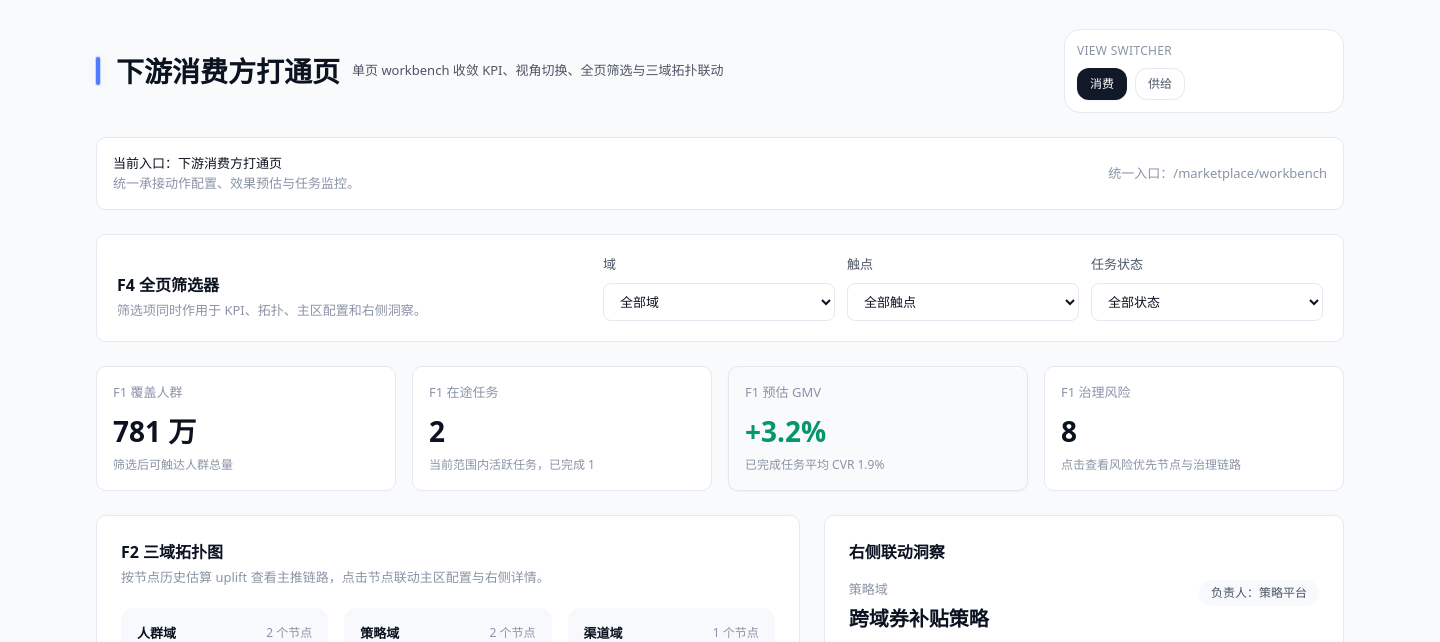
MarketWorkbench › 全页筛选与节点选择共同过滤任务列表
Select "已完成" in the dropdown named "任务状态筛选" at (1207, 302), box [1091, 282, 1323, 320]
(page scrolled)
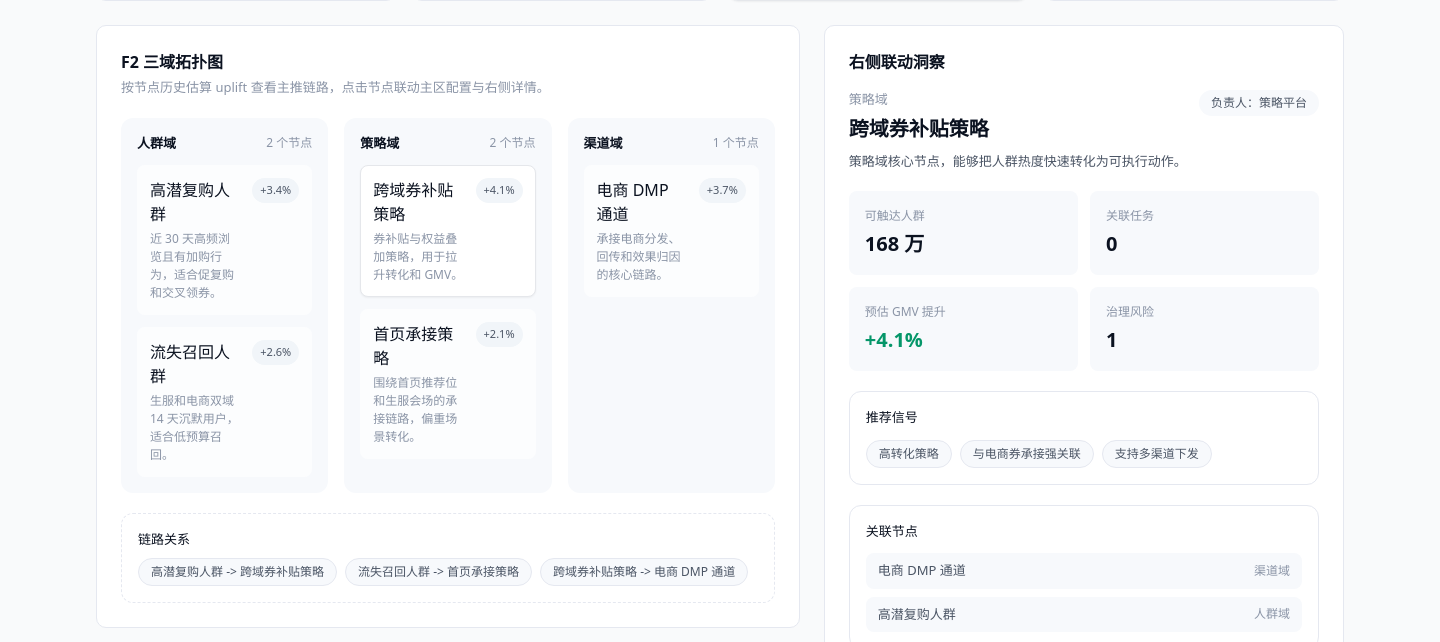
Click the button "流失召回人群 生服和电商双域 14 天沉默用户，适合低预算召回。 +2.6%" at (225, 402), box [137, 327, 312, 477]
(page scrolled)
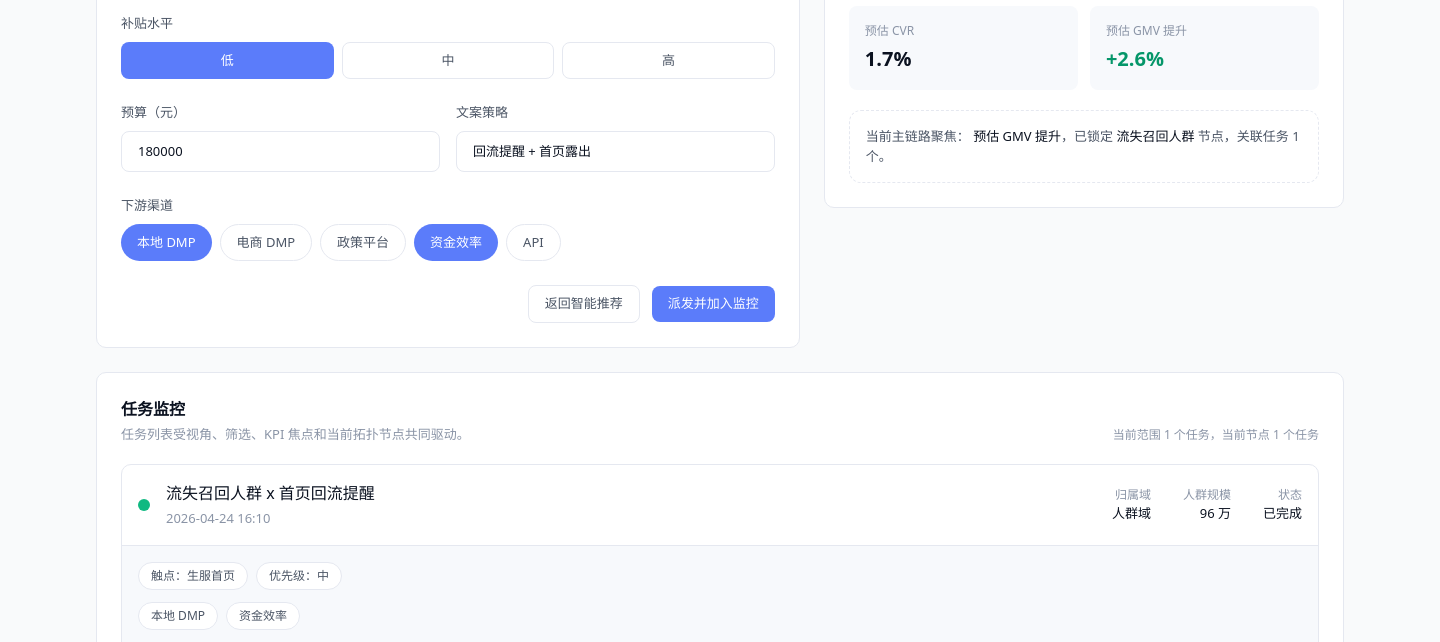
Check: the text "流失召回人群 x 首页回流提醒" is shown, box [166, 481, 375, 505]
